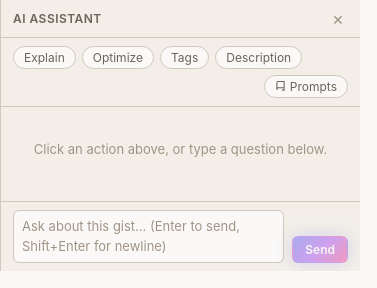
Test: AIPanel › Send button enables when text is typed
The width and height of the screenshot is (377, 288).
Replace the text in the text box with placeholder "Ask about this gist" with "hello" at {"x": 149, "y": 236}, box [13,210,284,263]
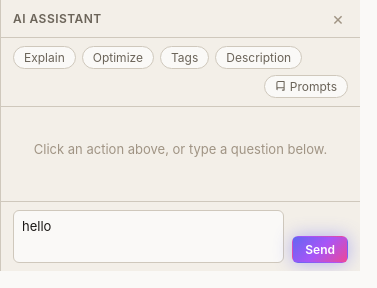
expect the button "Send" is enabled: met, box [292,236,348,263]
